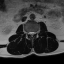CCS_normal: (30, 29, 32, 38)
LFS_normal: (34, 29, 36, 36)
LLS_normal: (32, 29, 34, 37)
RFS_normal: (26, 29, 28, 36)
RLS_normal: (28, 30, 30, 36)
